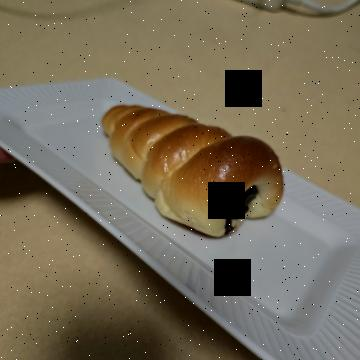cream horn: (96, 65, 252, 273)
